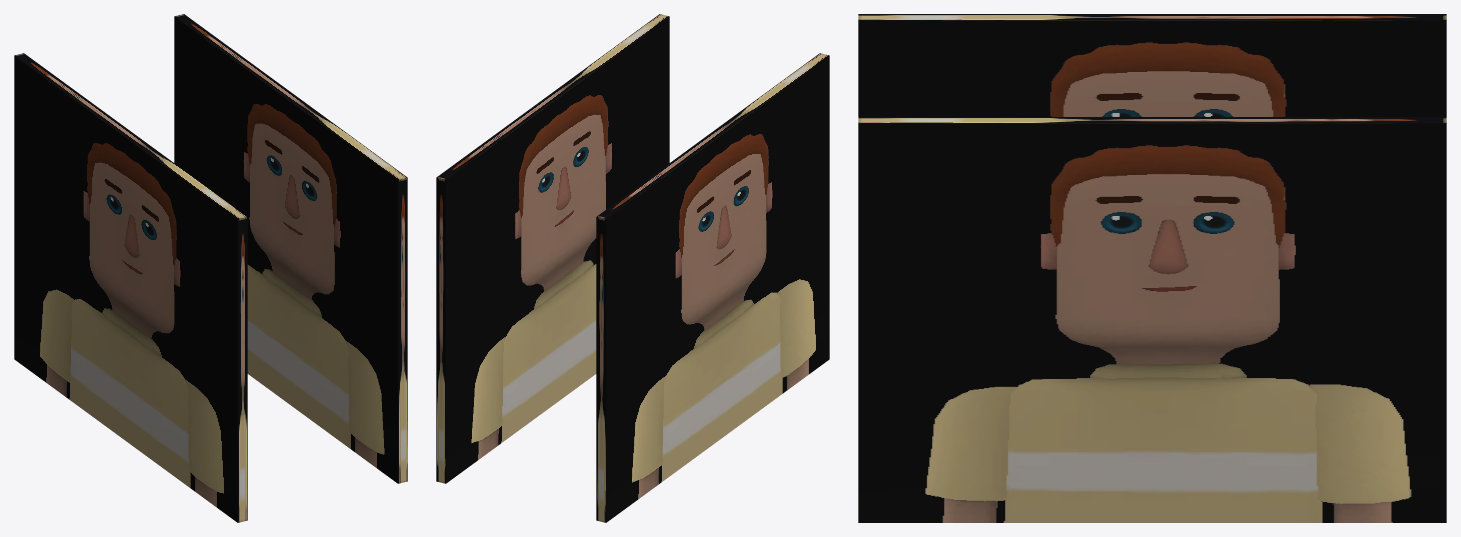
File: seven.obj
3 views of the same model, side by side, from view 1: azimuth 30°, elevation 25°; view 2: azimuth 150°, elevation 25°; view 3: azimuth 270°, elevation 25° (orthographic). The views are drawn at different scales.
Bounding box in the file's own units: 21.22 × 36.23 × 48.34.
Materials: 1 (1 with a texture image).
